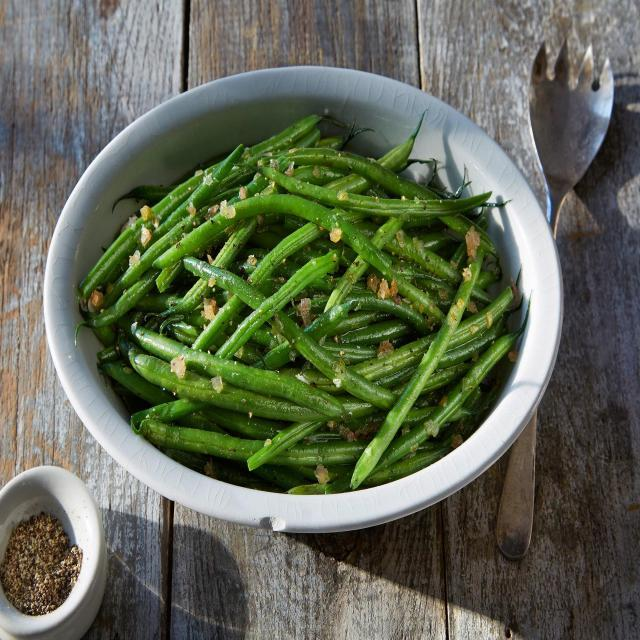Beans: (70, 99, 527, 493)
